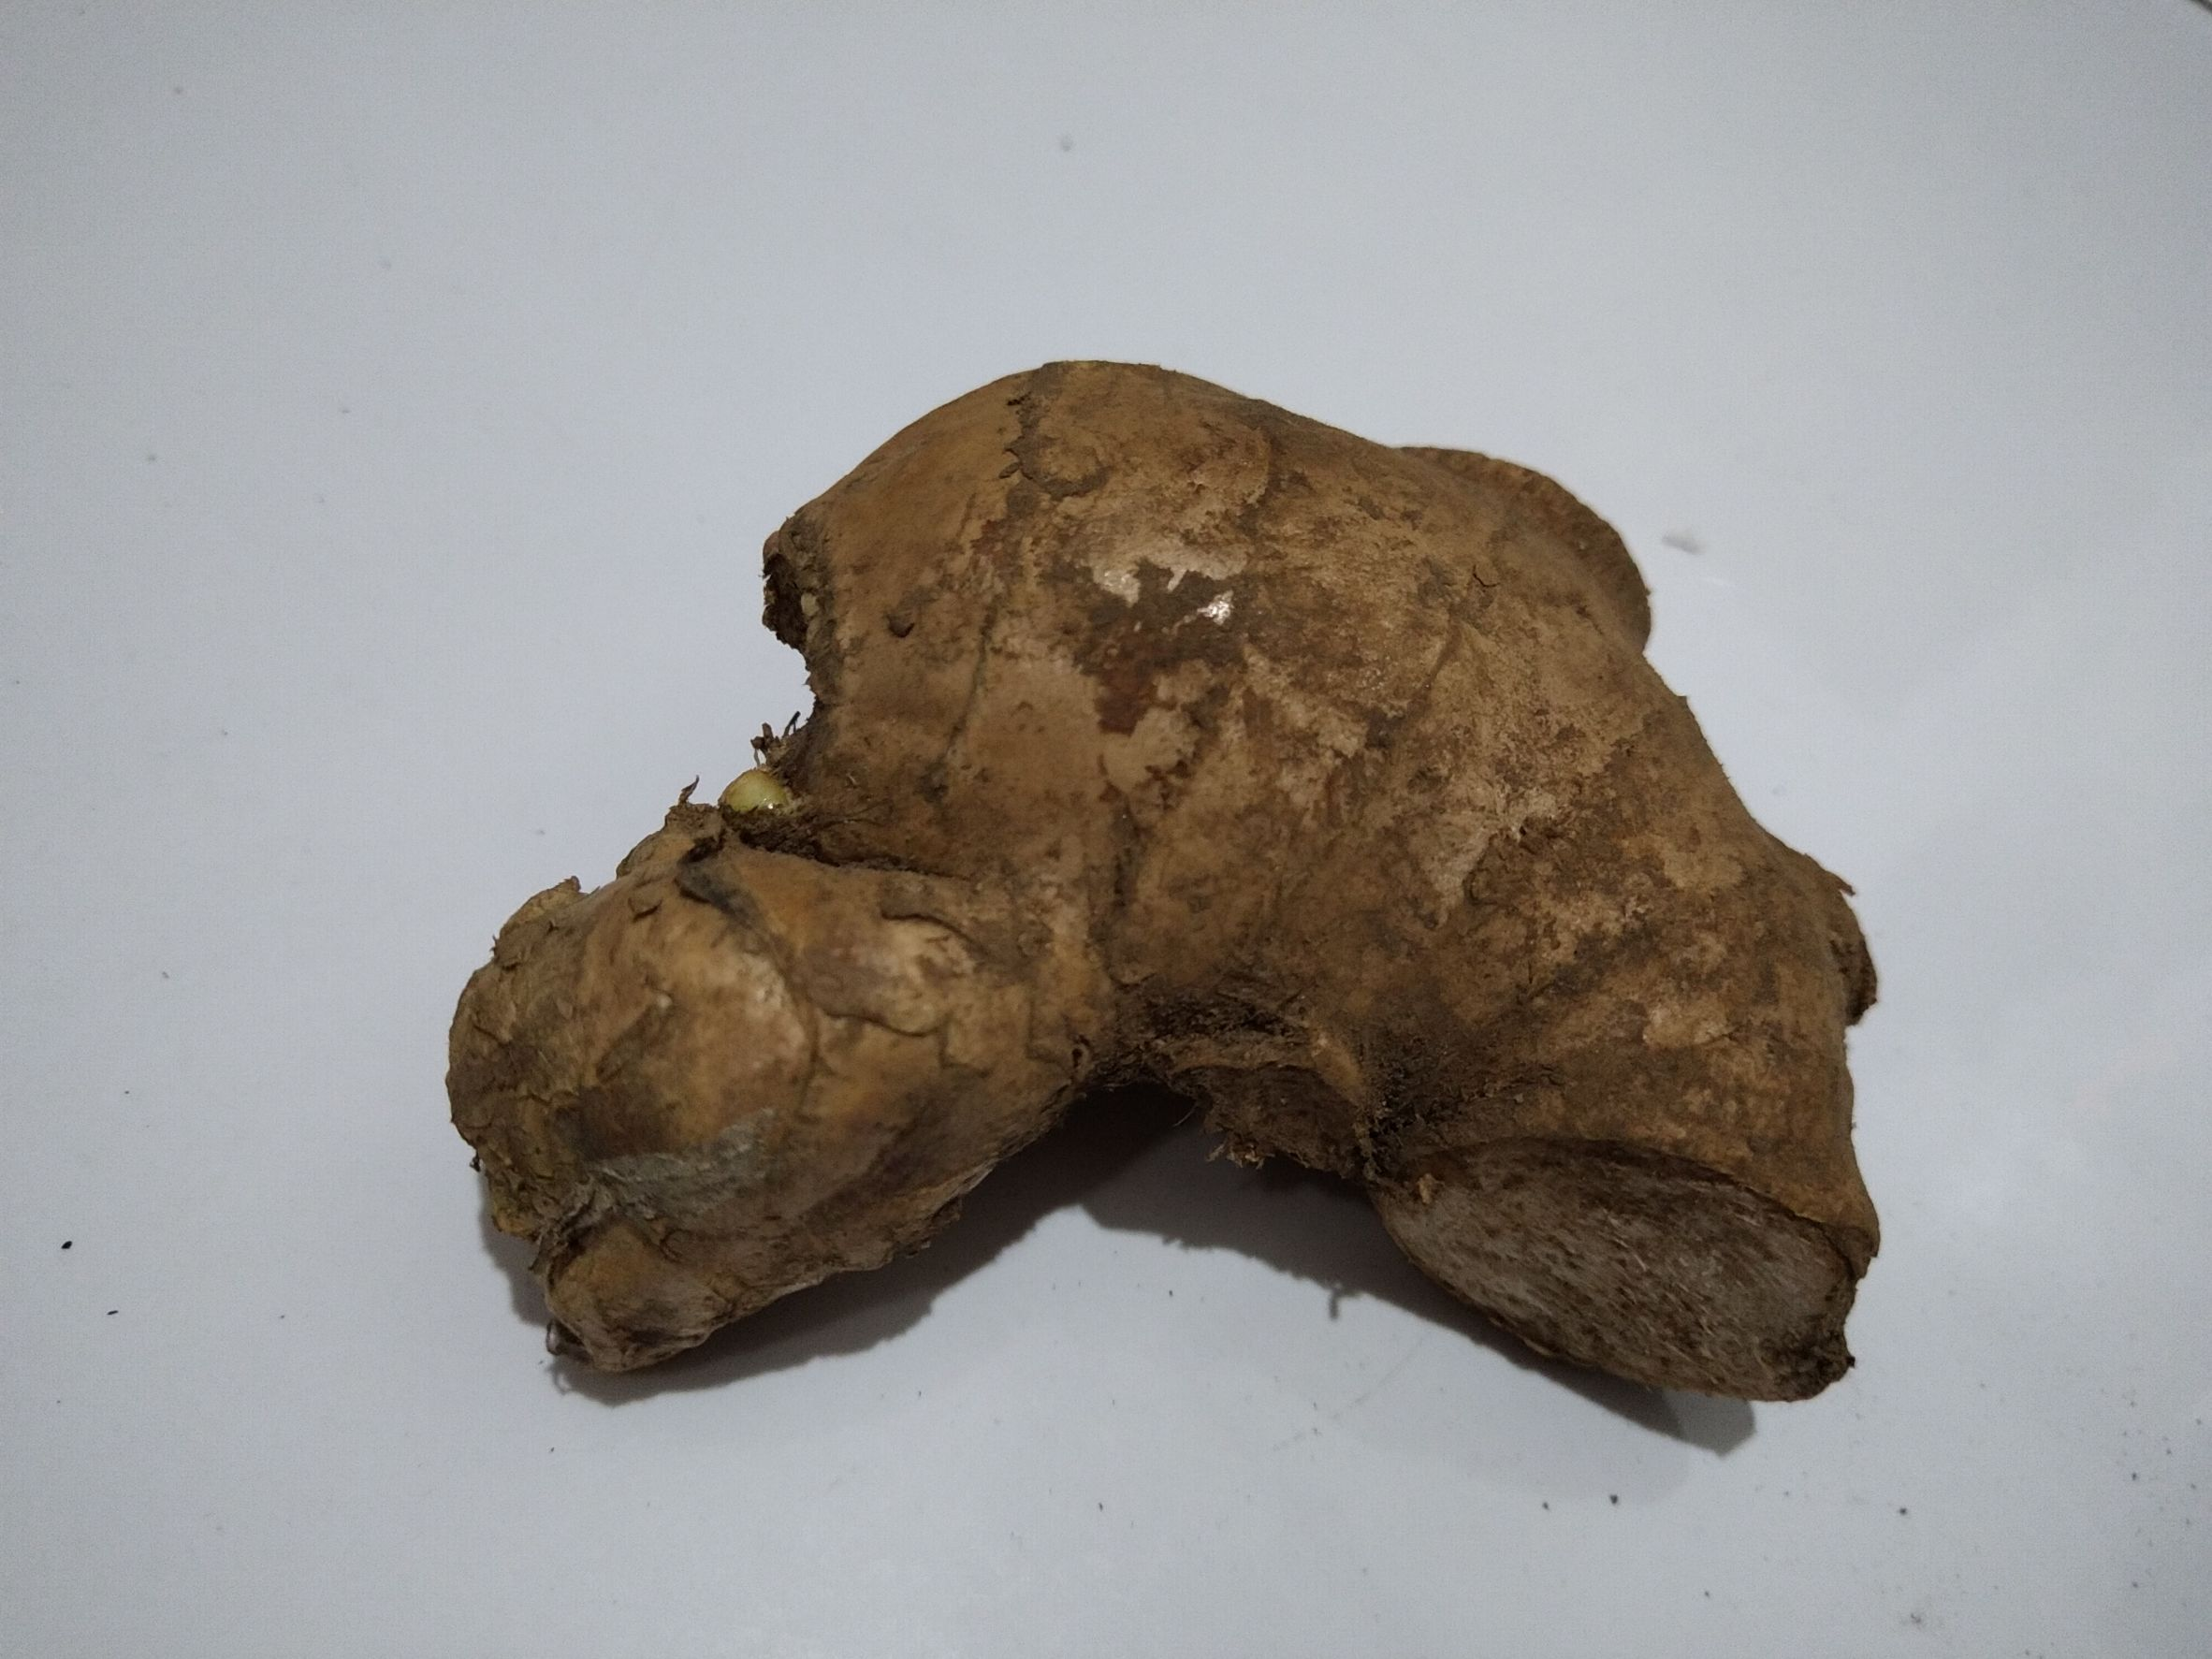Jahe: (460, 378, 1893, 1466)
